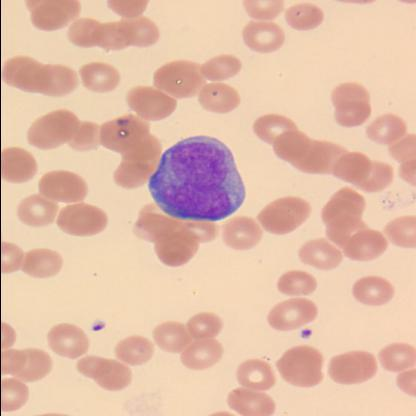Promyelocyte: (145, 136, 242, 221)
